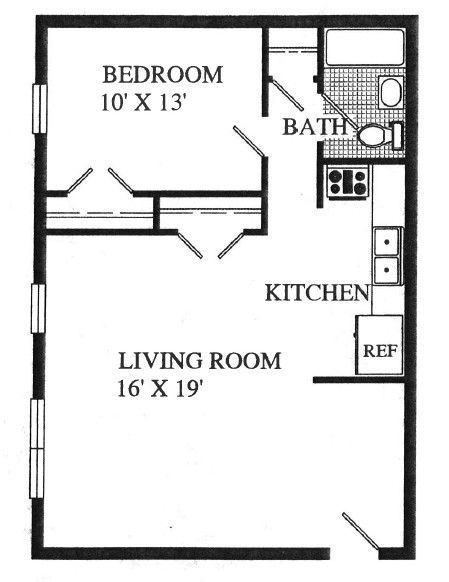room: (26, 3, 423, 567)
wall: (402, 25, 421, 560), (34, 10, 421, 33), (44, 539, 336, 565), (45, 223, 181, 240), (136, 185, 263, 202), (31, 133, 44, 286), (314, 376, 405, 394), (257, 17, 272, 111), (322, 156, 409, 172), (29, 335, 47, 402), (259, 160, 275, 233), (29, 34, 50, 83), (311, 28, 327, 92), (28, 502, 43, 560), (316, 138, 326, 210)
window: (22, 398, 54, 500), (27, 80, 52, 133), (31, 286, 54, 332)
